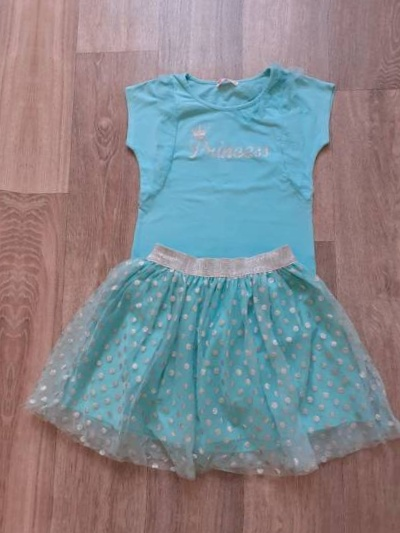Dress: (26, 59, 400, 500), (0, 28, 11, 469)
